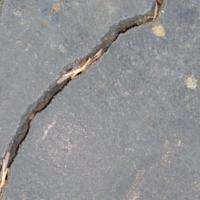crack: (1, 1, 159, 190)
